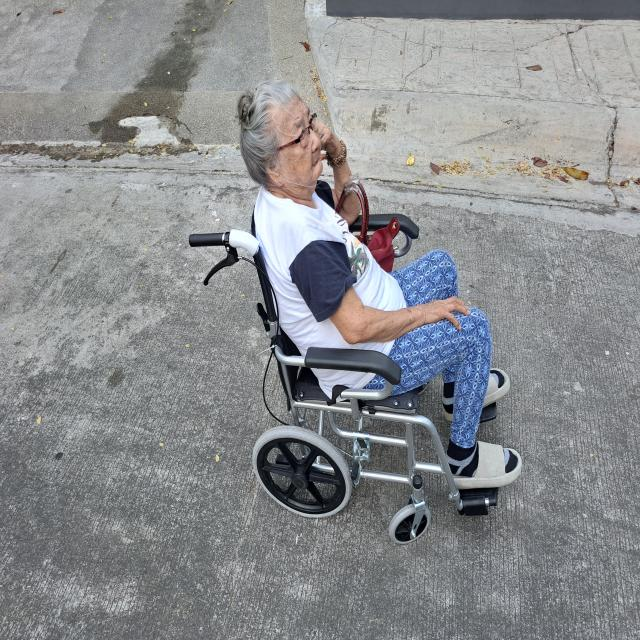wheelchairs: (188, 212, 512, 546)
